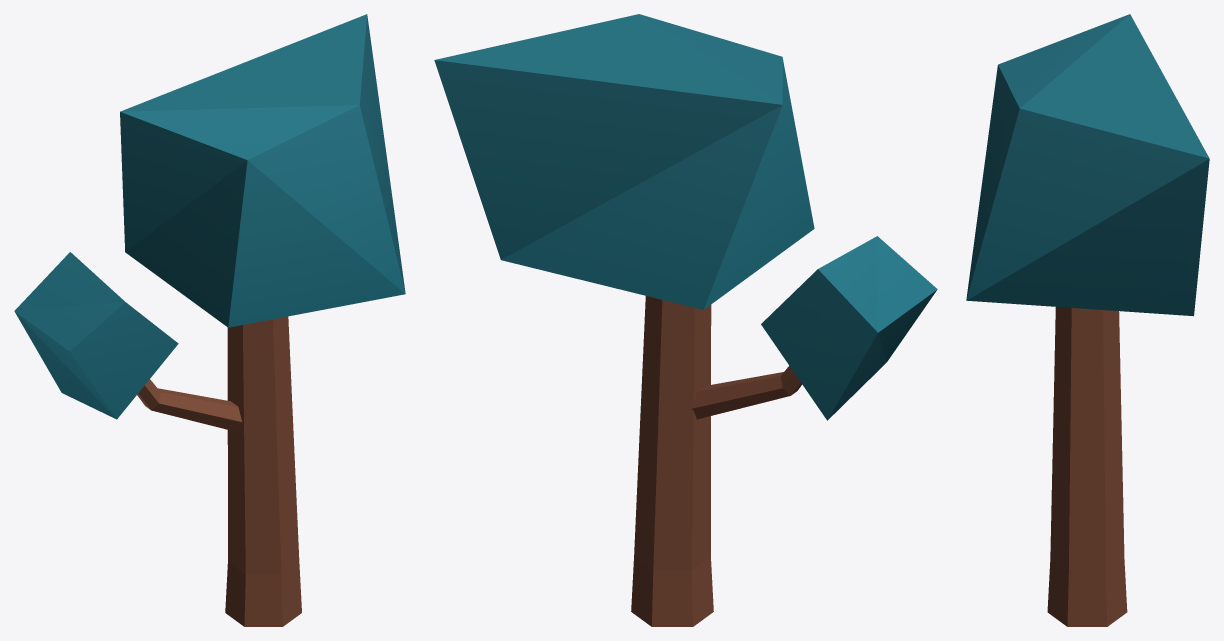
File: Tree_45_gradient_blue_vc.fbx
3 renders of one model, left to right at view 1: azimuth 30°, elevation 25°; view 2: azimuth 150°, elevation 25°; view 3: azimuth 270°, elevation 25°, orthographic. The views are drawn at different scales.
Visible parts, largest first — view 1: Tree_45_gradient_blue_vc; view 2: Tree_45_gradient_blue_vc; view 3: Tree_45_gradient_blue_vc.
Boxes of the visible parts, x1,y1,x2,y2 form: Tree_45_gradient_blue_vc: (14,14,405,626); Tree_45_gradient_blue_vc: (434,14,937,626); Tree_45_gradient_blue_vc: (966,14,1209,626).
Bounding box in the file's own units: 139 × 179 × 73.58.
